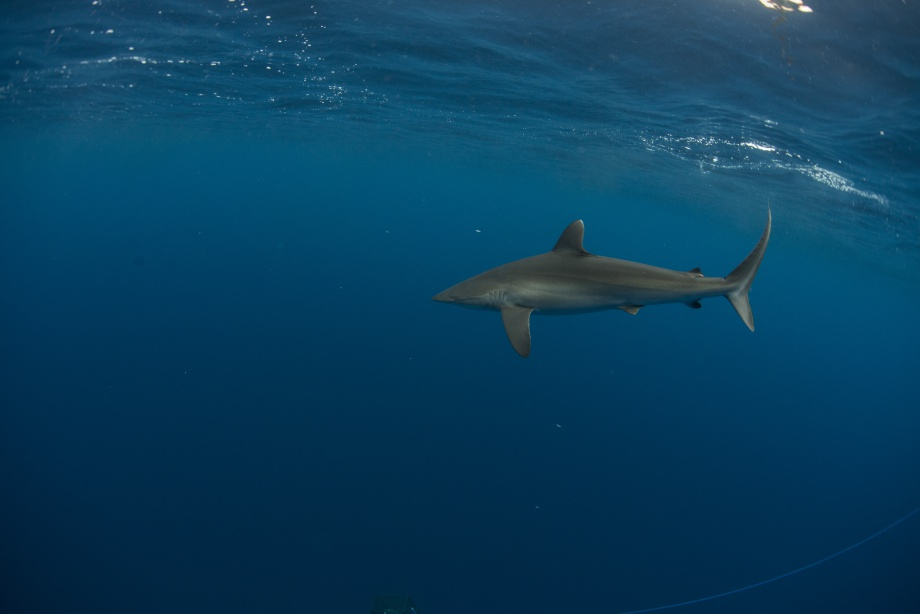Sedoso: (416, 199, 787, 373)
